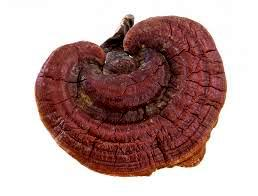Ganoderma - Fruit Body: (35, 16, 228, 178)
